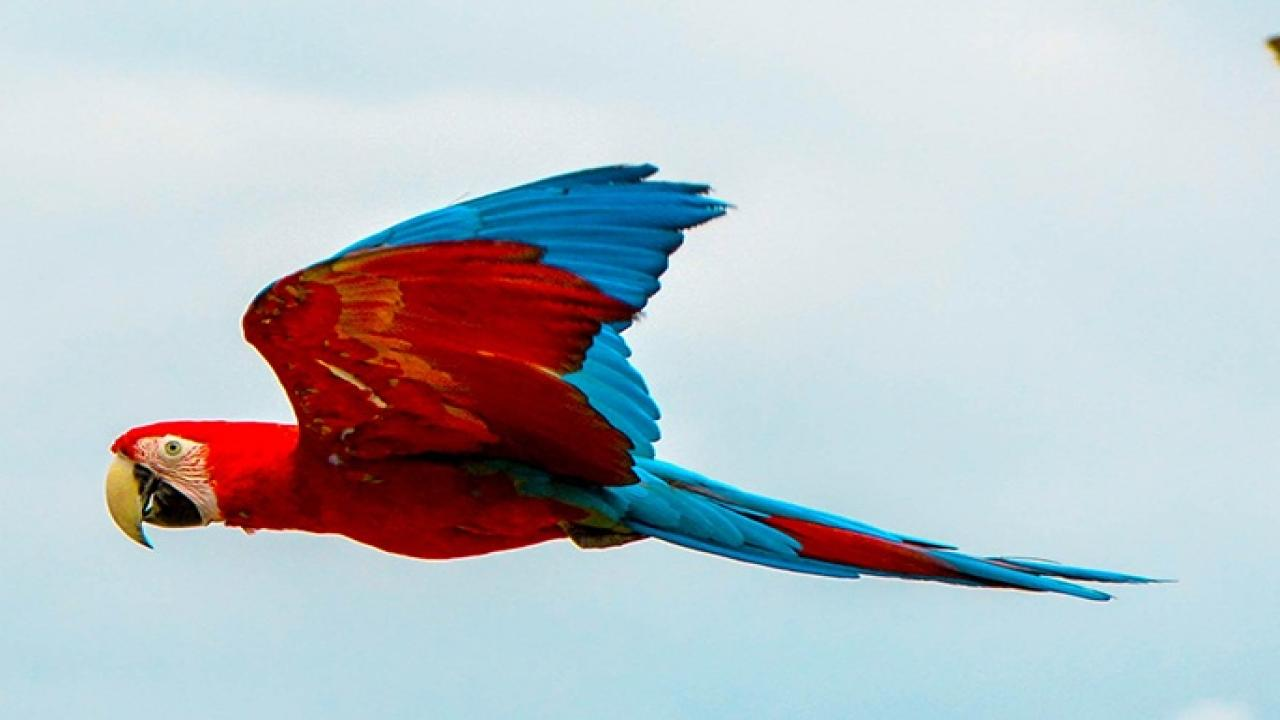Bird: (88, 154, 1191, 623)
